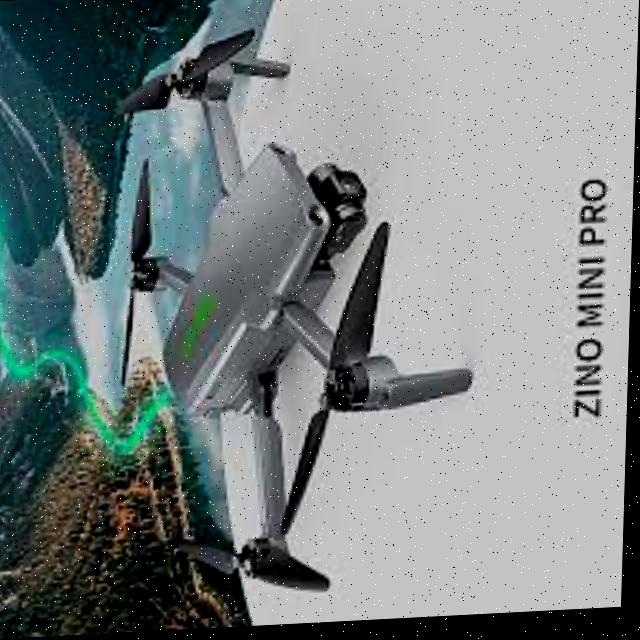drone: (100, 9, 485, 611)
